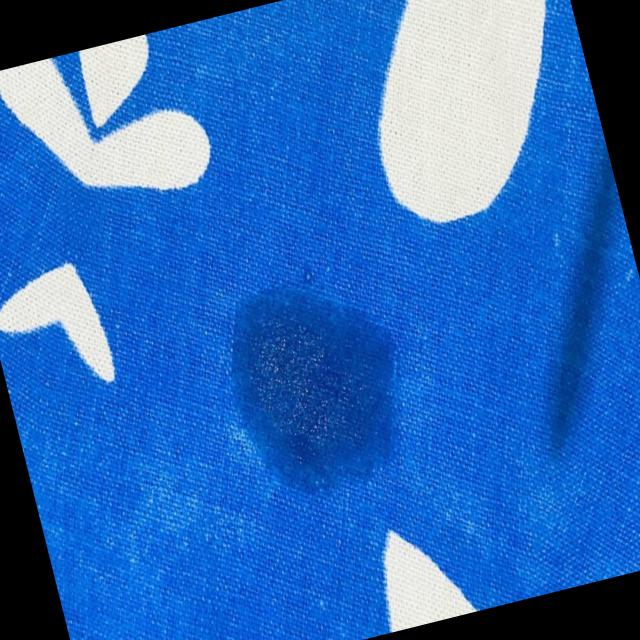stain: (206, 262, 425, 514)
